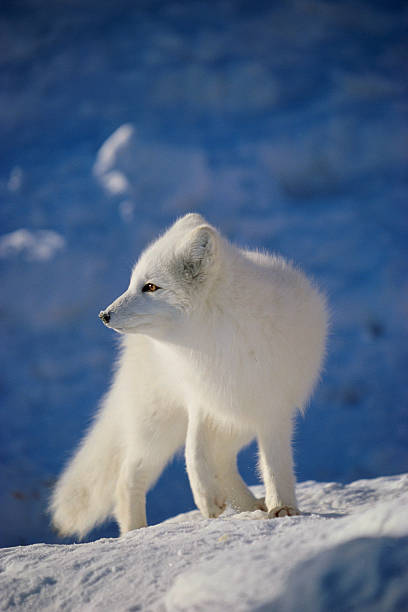arcticfox: (92, 238, 218, 359)
